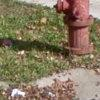Hydrant: (47, 0, 95, 62)
